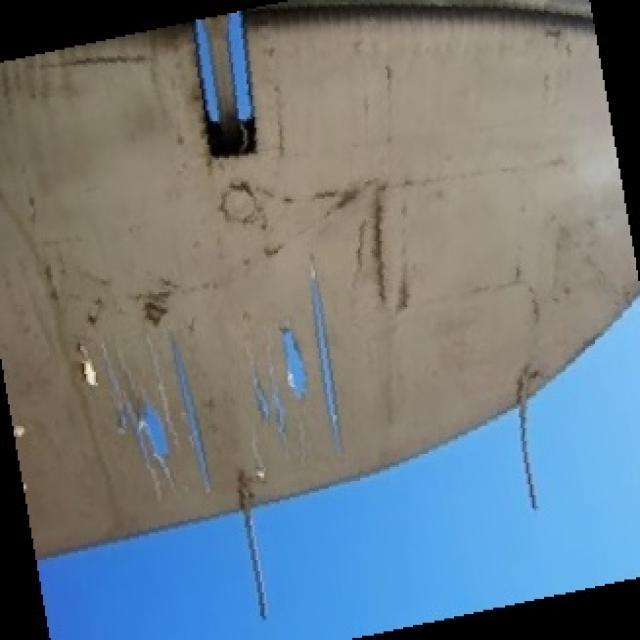crack: (97, 252, 350, 510)
